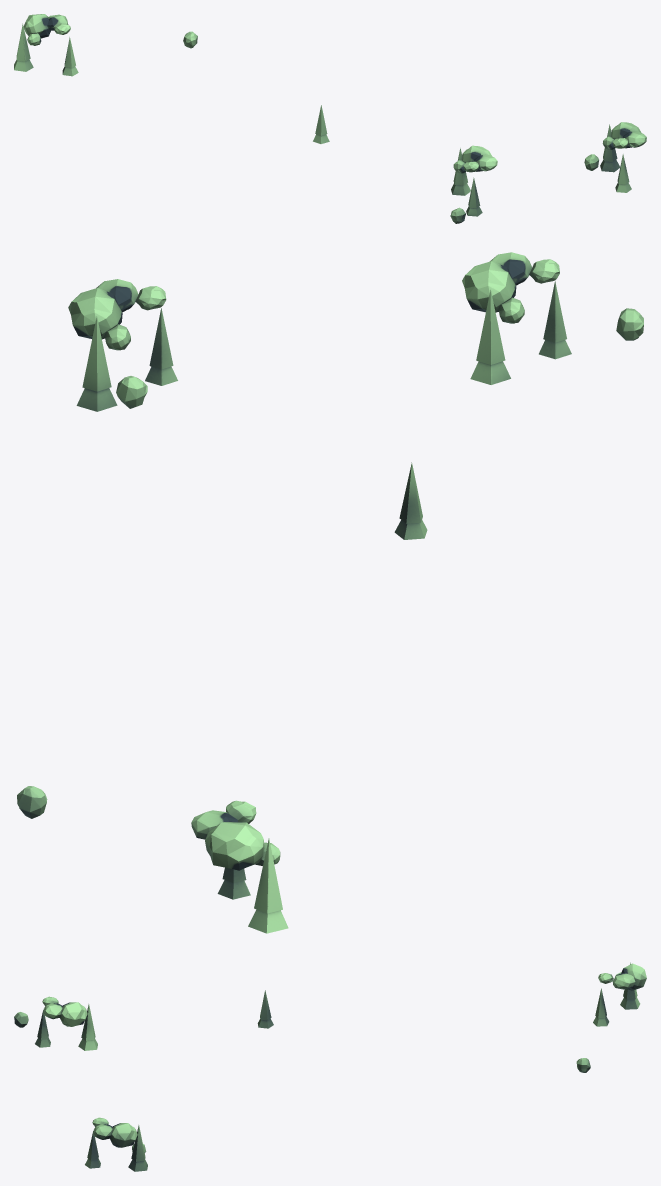
Rendered from Wood_01.FBX.
The picture shows the model from 3 angles, top to bottom: view 1: azimuth 30°, elevation 25°; view 2: azimuth 150°, elevation 25°; view 3: azimuth 270°, elevation 25°; orthographic projection. The views are drawn at different scales.
Parts seen in each view (by area): view 1: Wood_01; view 2: Wood_01; view 3: Wood_01.
Boxes of the visible parts, <box> form: Wood_01: <box>14,14,646,223</box>; Wood_01: <box>17,252,643,933</box>; Wood_01: <box>14,962,646,1171</box>.
Bounding box in the file's own units: 27.12 × 6.21 × 41.01.
